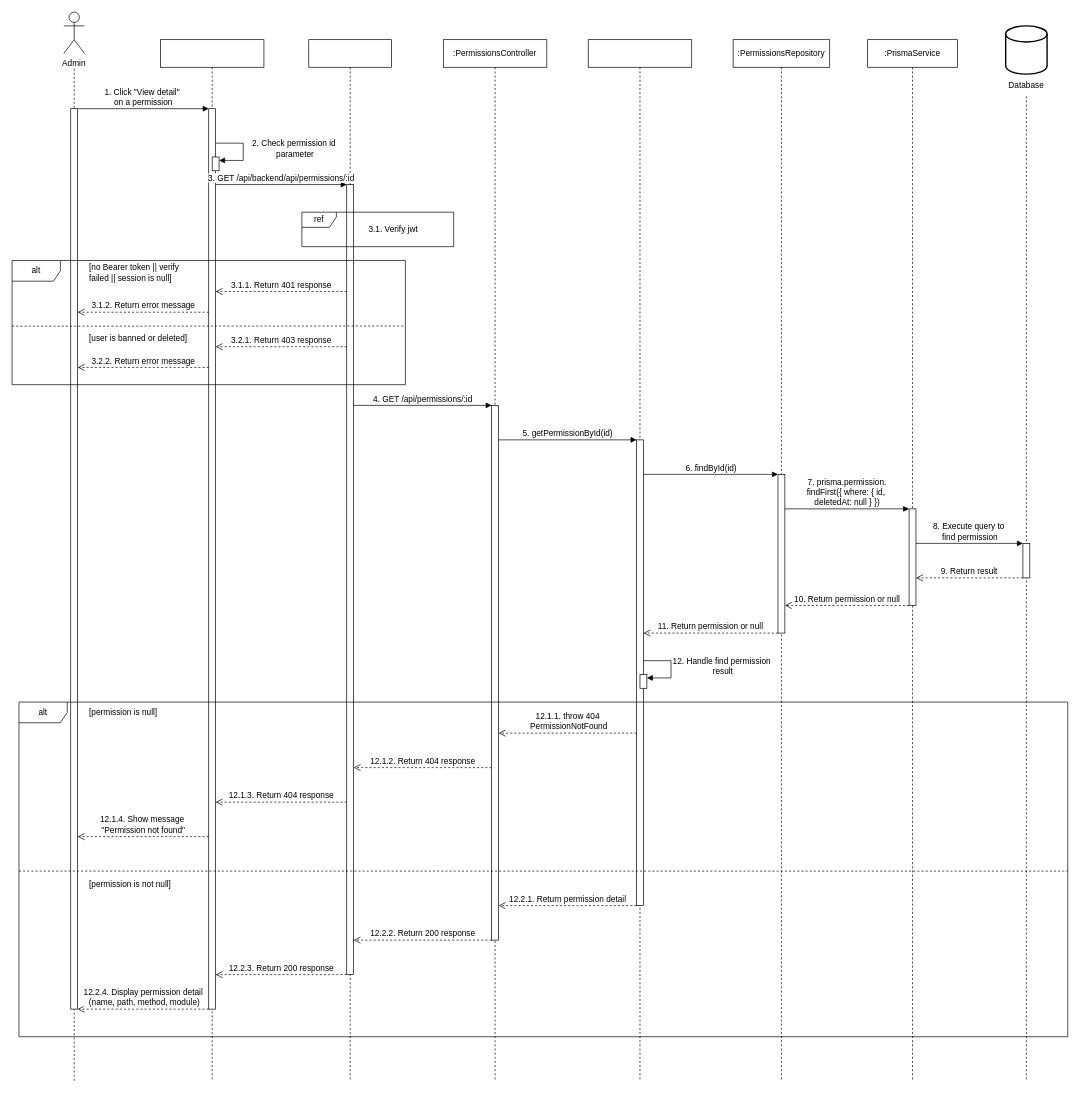
Image size: 1081x1094. Some labels were removed from this diagram. Here are the shapes that lost their labels. From the top down, the box of each, then its label:
(160, 39, 264, 1082): :PermissionView
(308, 39, 392, 1082): :PermissionRoute
(588, 39, 692, 1082): :PermissionsService
